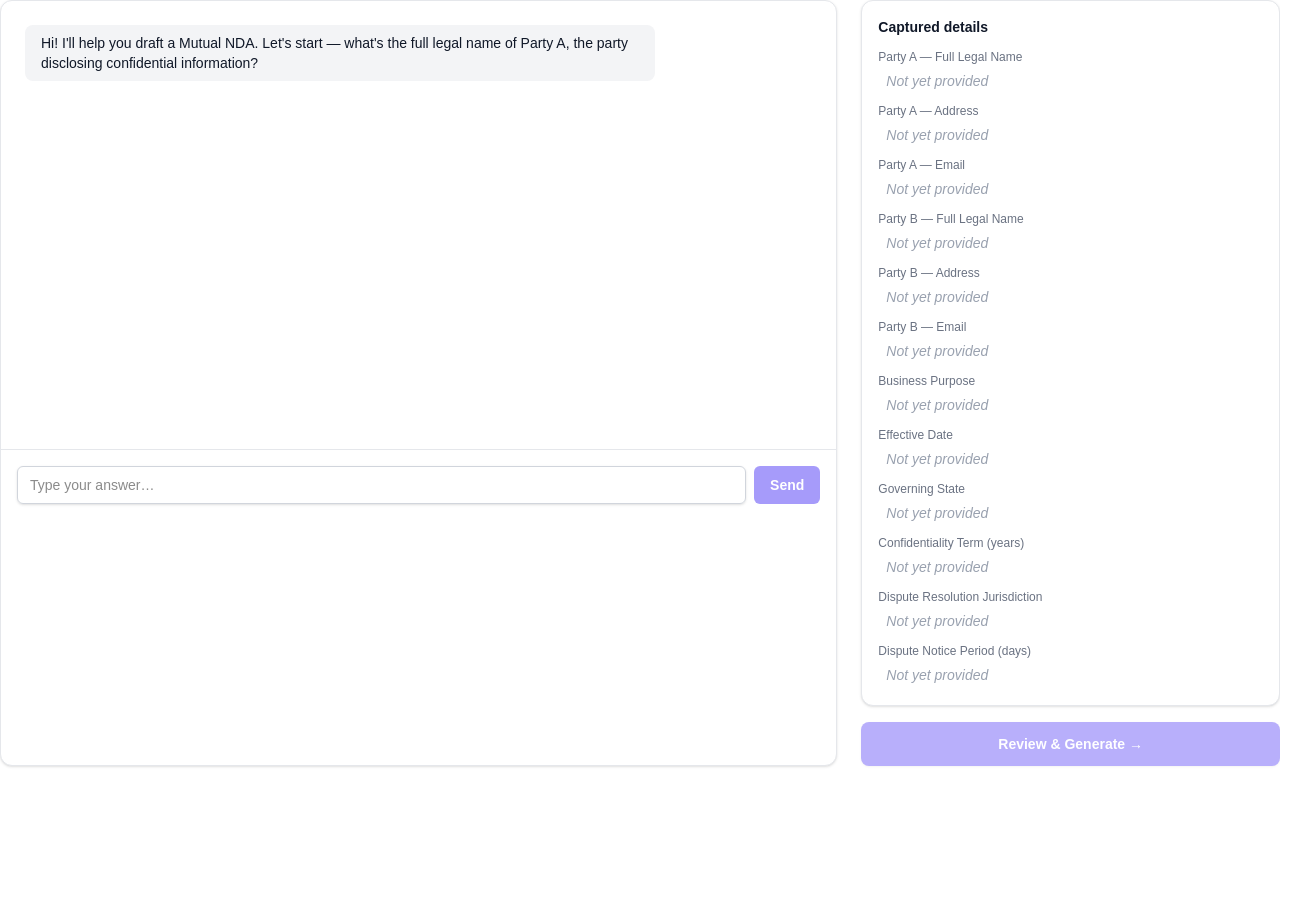
Test case: NdaChat › sends the message history and current fields to the backend, then merges the response
Type "Acme Corp." into the field named "Message" at (382, 485), box [17, 466, 746, 504]
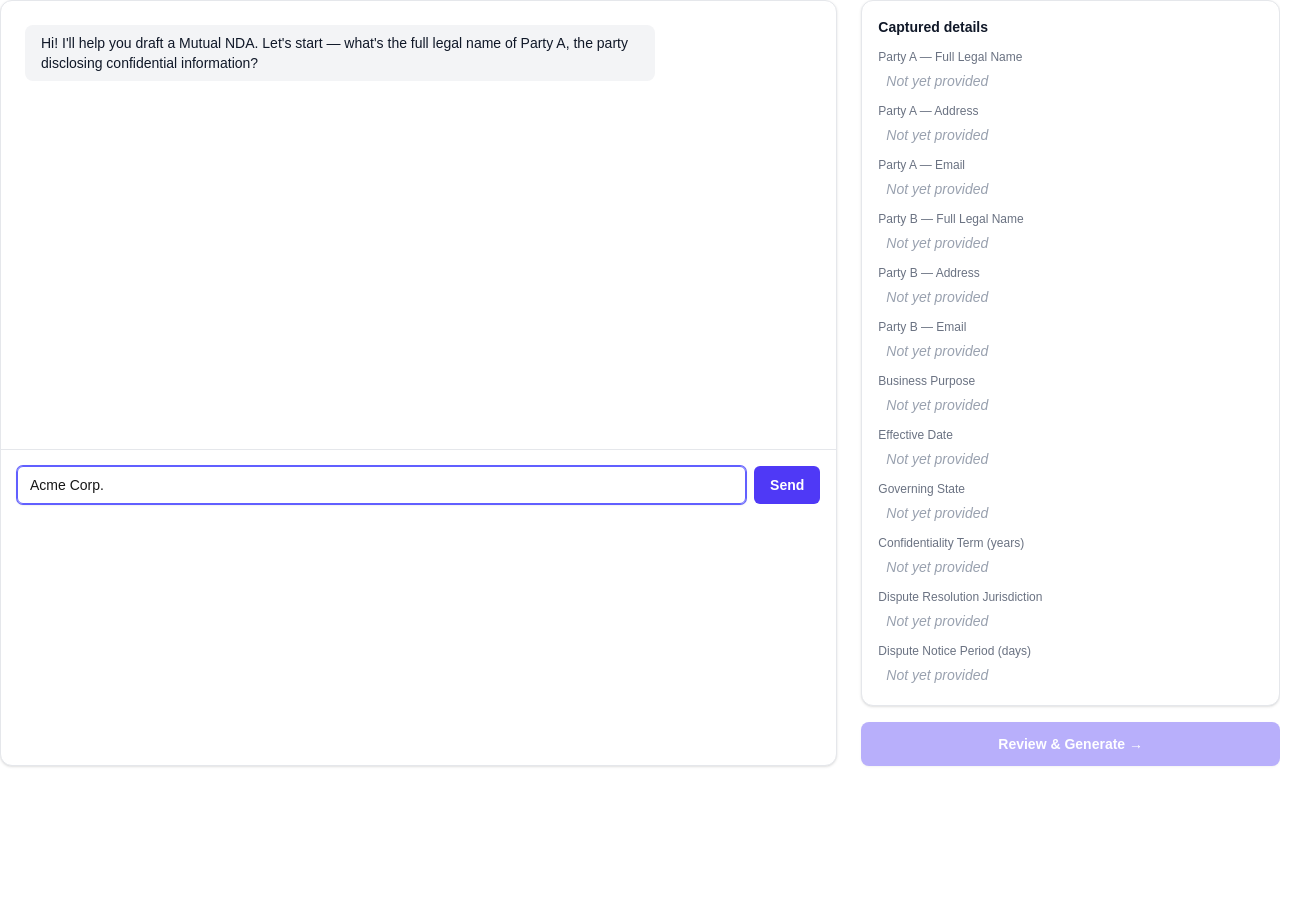
Click the button "Send" at (787, 485), box [754, 466, 820, 504]
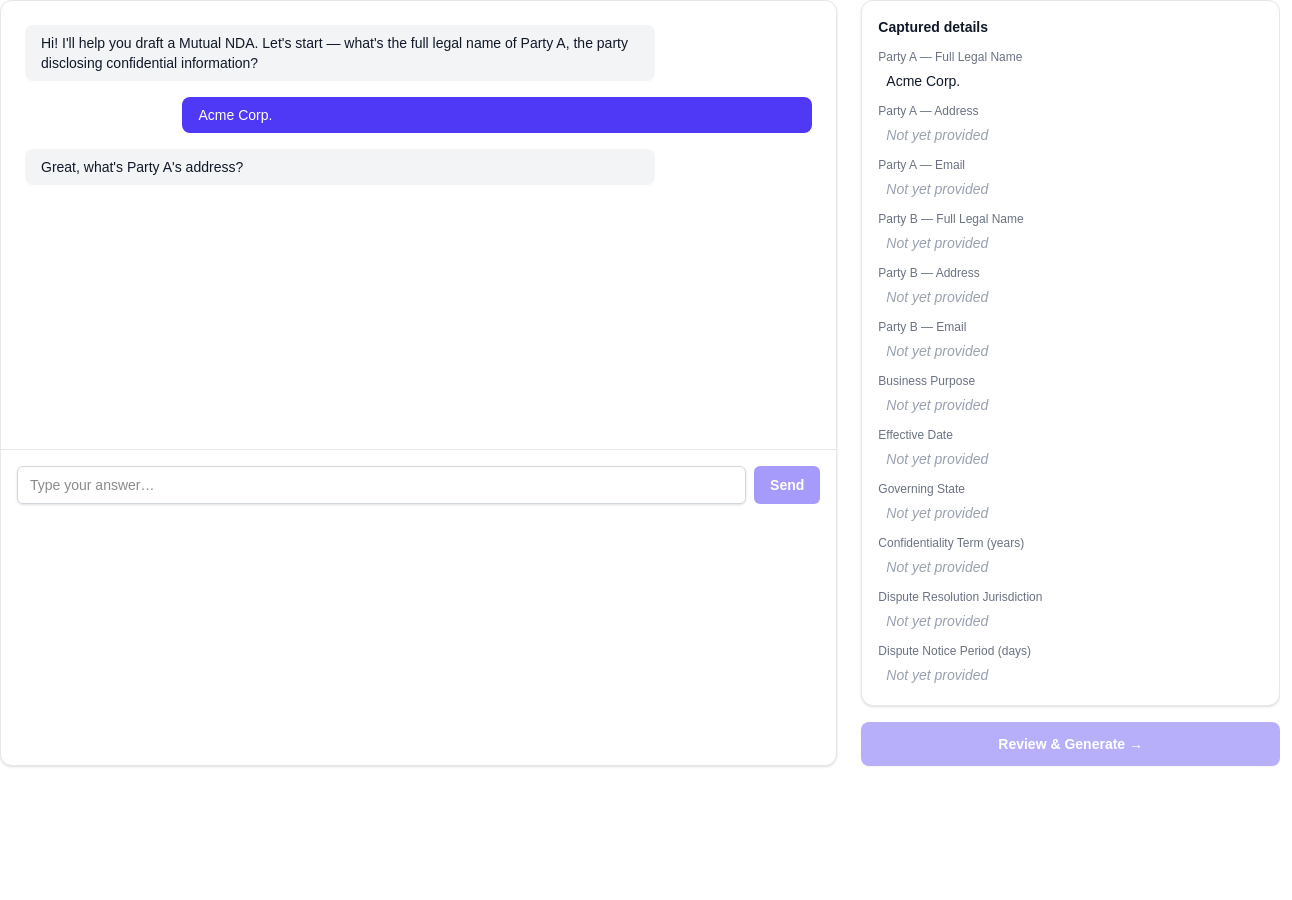
expect the text "Great, what's Party A's address?" is shown: met, box [25, 149, 655, 185]
expect the button "Acme Corp." is shown: met, box [878, 67, 1263, 95]
